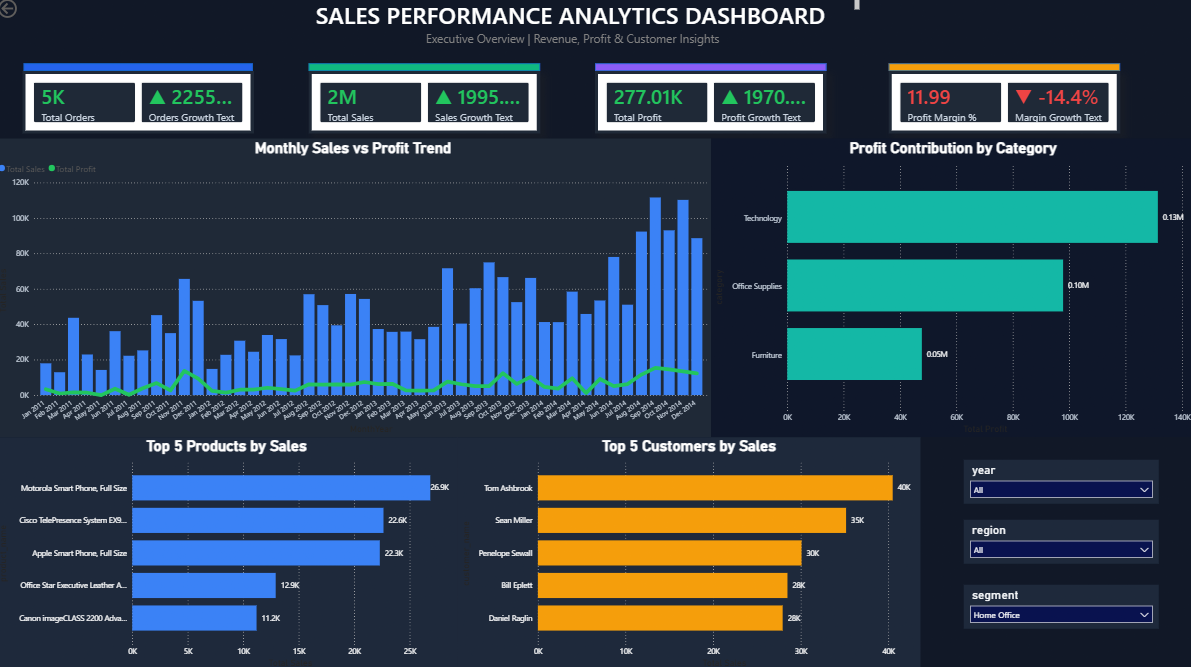

What the dashboard file says about the page in this screenshot:
{"tool":"powerbi","page":{"name":"Page 1","canvas":[1920,1080],"ordinal":0},"visuals":[{"type":"textbox","box":[460.6,0,927.9,50.2],"z":0},{"type":"textbox","box":[574.5,50.2,700.1,48.6],"z":1000},{"type":"cardVisual","fields":{"Data":["SuperStoreOrders_PowerBI.Total Orders","SuperStoreOrders_PowerBI.Orders Growth Text"]},"box":[44,120,370,100],"z":2000},{"type":"cardVisual","fields":{"Data":["SuperStoreOrders_PowerBI.Profit Margin %","SuperStoreOrders_PowerBI.Margin Growth Text"]},"box":[1430,120,370,100],"z":3000},{"type":"cardVisual","fields":{"Data":["SuperStoreOrders_PowerBI.Total Profit","SuperStoreOrders_PowerBI.Profit Growth Text"]},"box":[960,120,370,100],"z":4000},{"type":"cardVisual","fields":{"Data":["SuperStoreOrders_PowerBI.Total Sales","SuperStoreOrders_PowerBI.Sales Growth Text"]},"box":[502,120,370,100],"z":5000},{"type":"shape","box":[46,108,366,12],"z":6000},{"type":"shape","box":[502,108,370,12],"z":7000},{"type":"shape","box":[960,108,370,12],"z":8000},{"type":"shape","box":[1430,108,370,12],"z":9000},{"type":"lineClusteredColumnComboChart","title":"Monthly Sales vs Profit Trend","fields":{"Category":["SuperStoreOrders_PowerBI.MonthYear"],"Y":["SuperStoreOrders_PowerBI.Total Sales"],"Y2":["SuperStoreOrders_PowerBI.Total Profit"]},"box":[0,228.5,1145.9,477.9],"z":9001},{"type":"clusteredBarChart","title":"Profit Contribution by Category","fields":{"Category":["SuperStoreOrders_PowerBI.category"],"Y":["SuperStoreOrders_PowerBI.Total Profit"]},"box":[1145.9,228.5,774.4,477.9],"z":9002},{"type":"clusteredBarChart","title":"Top 5 Products by Sales","fields":{"Category":["SuperStoreOrders_PowerBI.product_name"],"Y":["SuperStoreOrders_PowerBI.Total Sales"]},"box":[0,706,741,374.6],"z":9003},{"type":"clusteredBarChart","title":"Top 5 Customers by Sales","fields":{"Y":["SuperStoreOrders_PowerBI.Total Sales"],"Category":["SuperStoreOrders_PowerBI.customer_name"]},"box":[741,706,741,374.6],"z":9004},{"type":"slicer","fields":{"Values":["SuperStoreOrders_PowerBI.year"]},"box":[1550,742,312,70],"z":9005},{"type":"slicer","fields":{"Values":["SuperStoreOrders_PowerBI.region"]},"box":[1550,838,312,70],"z":9006},{"type":"slicer","fields":{"Values":["SuperStoreOrders_PowerBI.segment"]},"box":[1550,942,312,70],"z":9007},{"type":"actionButton","box":[0,0,100,40],"z":9009}]}

Visuals, with their boxes in screenshot pixels (x1, y1, x2, y2), scaled from the page's 1920x1080 canvas onto the 1191x667 screenshot:
textbox: box=[286, 0, 861, 31]
textbox: box=[356, 31, 791, 61]
cardVisual - SuperStoreOrders_PowerBI.Total Orders x SuperStoreOrders_PowerBI.Orders Growth Text: box=[27, 74, 257, 136]
cardVisual - SuperStoreOrders_PowerBI.Profit Margin % x SuperStoreOrders_PowerBI.Margin Growth Text: box=[887, 74, 1117, 136]
cardVisual - SuperStoreOrders_PowerBI.Total Profit x SuperStoreOrders_PowerBI.Profit Growth Text: box=[596, 74, 825, 136]
cardVisual - SuperStoreOrders_PowerBI.Total Sales x SuperStoreOrders_PowerBI.Sales Growth Text: box=[311, 74, 541, 136]
shape: box=[29, 67, 256, 74]
shape: box=[311, 67, 541, 74]
shape: box=[596, 67, 825, 74]
shape: box=[887, 67, 1117, 74]
"Monthly Sales vs Profit Trend" lineClusteredColumnComboChart: box=[0, 141, 711, 436]
"Profit Contribution by Category" clusteredBarChart: box=[711, 141, 1190, 436]
"Top 5 Products by Sales" clusteredBarChart: box=[0, 436, 460, 666]
"Top 5 Customers by Sales" clusteredBarChart: box=[460, 436, 919, 666]
slicer - SuperStoreOrders_PowerBI.year: box=[961, 458, 1155, 501]
slicer - SuperStoreOrders_PowerBI.region: box=[961, 518, 1155, 561]
slicer - SuperStoreOrders_PowerBI.segment: box=[961, 582, 1155, 625]
actionButton: box=[0, 0, 62, 25]
